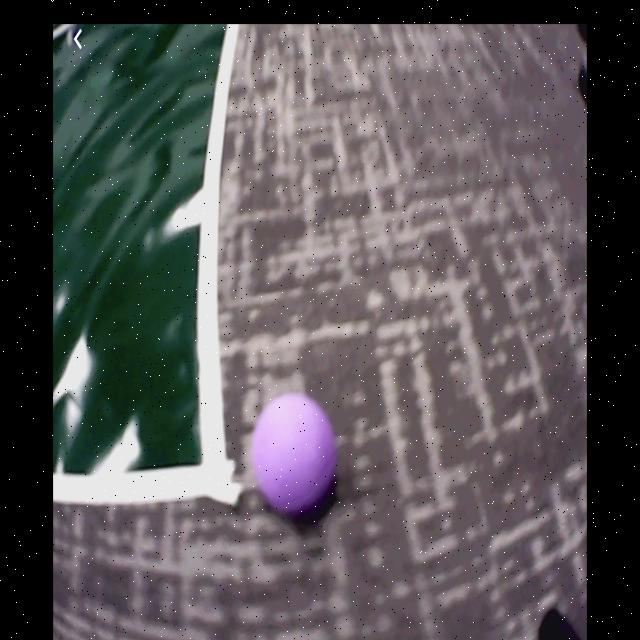ball: (255, 396, 338, 515)
